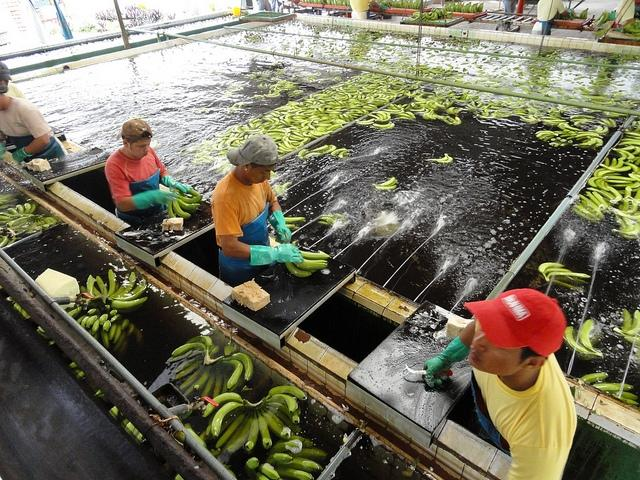banana: (215, 410, 250, 450), (206, 408, 248, 441), (225, 410, 254, 454), (211, 402, 246, 438), (202, 392, 244, 419), (564, 326, 596, 360), (259, 408, 290, 440), (579, 319, 604, 358), (613, 308, 638, 344), (110, 278, 148, 301), (224, 352, 254, 381), (278, 456, 324, 474), (281, 446, 329, 462), (578, 194, 604, 220), (222, 360, 243, 392), (270, 465, 314, 480), (256, 408, 272, 449), (112, 272, 136, 298), (174, 360, 204, 380), (266, 394, 297, 413), (265, 386, 306, 400), (108, 296, 148, 310), (245, 410, 259, 450), (200, 368, 216, 402), (571, 206, 601, 224), (110, 273, 130, 297), (194, 366, 212, 392), (172, 343, 206, 356), (285, 262, 312, 278), (538, 262, 564, 278), (185, 336, 212, 351), (268, 442, 299, 455), (553, 280, 585, 292), (213, 364, 224, 398), (175, 358, 198, 374), (172, 200, 192, 218), (264, 454, 294, 466), (259, 463, 280, 480), (578, 373, 608, 384), (175, 194, 203, 205), (300, 250, 330, 260), (606, 186, 623, 203), (592, 192, 608, 210), (177, 198, 201, 210), (6, 215, 32, 226), (115, 336, 128, 358), (617, 223, 640, 235), (294, 261, 328, 269), (5, 220, 32, 230), (586, 191, 602, 207), (614, 148, 635, 160), (613, 391, 638, 400), (592, 384, 620, 392), (600, 164, 631, 171), (108, 269, 116, 295), (86, 315, 101, 328), (87, 274, 95, 298), (604, 176, 636, 182), (588, 176, 604, 188), (67, 306, 83, 318), (623, 162, 640, 173), (90, 318, 100, 336), (113, 324, 122, 344), (108, 322, 117, 342), (375, 177, 395, 186), (544, 268, 572, 274), (108, 406, 120, 420), (579, 138, 597, 147), (428, 154, 448, 162), (608, 158, 624, 168), (372, 184, 397, 190), (310, 145, 328, 153), (118, 318, 130, 330), (212, 142, 226, 152), (124, 422, 134, 436), (168, 201, 176, 218), (589, 96, 611, 102), (126, 323, 136, 336), (437, 155, 453, 163), (96, 276, 104, 292), (28, 220, 37, 234), (247, 458, 259, 468), (99, 314, 109, 326), (0, 235, 9, 248), (604, 179, 632, 183), (278, 143, 294, 150), (536, 132, 554, 138), (214, 132, 232, 138), (426, 110, 436, 120), (355, 118, 375, 123), (76, 315, 87, 324), (76, 371, 87, 380), (70, 368, 82, 376), (132, 428, 140, 440), (416, 94, 429, 101), (623, 198, 630, 211), (356, 120, 374, 125), (21, 309, 30, 319), (408, 107, 426, 112), (497, 110, 512, 116), (103, 320, 111, 331), (578, 132, 600, 136), (534, 112, 545, 120), (266, 132, 287, 136), (376, 110, 390, 116), (0, 194, 14, 200), (285, 136, 299, 142), (16, 204, 24, 214), (264, 93, 280, 98), (14, 302, 22, 312), (428, 8, 438, 16), (326, 146, 336, 154), (576, 136, 596, 140), (8, 208, 19, 215), (404, 112, 416, 118), (29, 204, 36, 214), (318, 119, 332, 124), (414, 96, 424, 103), (24, 204, 31, 214), (453, 117, 461, 125), (426, 11, 434, 19), (218, 140, 225, 149), (435, 102, 445, 108), (604, 13, 610, 23), (308, 115, 320, 120), (261, 114, 275, 118), (39, 218, 46, 226), (298, 129, 312, 133), (572, 11, 579, 19), (474, 6, 481, 14), (389, 94, 397, 101), (1, 212, 12, 217), (629, 28, 640, 33), (594, 88, 604, 93), (530, 107, 540, 112), (328, 102, 338, 107), (327, 218, 335, 224), (70, 362, 78, 368), (284, 114, 292, 120), (576, 202, 584, 208), (288, 109, 300, 113), (605, 158, 610, 167), (416, 1, 421, 10), (626, 136, 640, 139), (385, 0, 391, 7), (292, 104, 299, 110), (540, 54, 550, 58), (374, 86, 384, 90), (338, 92, 348, 96), (472, 102, 478, 108), (548, 120, 566, 122), (525, 79, 532, 84), (456, 4, 460, 12), (470, 5, 474, 13), (304, 114, 320, 116), (336, 102, 342, 107), (467, 3, 470, 13), (314, 112, 324, 115), (598, 72, 612, 74), (409, 0, 412, 9), (318, 98, 331, 100), (616, 94, 628, 96), (321, 108, 325, 114), (253, 122, 259, 126), (242, 127, 249, 130), (548, 83, 555, 86), (366, 86, 376, 88), (359, 92, 364, 96), (550, 52, 555, 56), (292, 91, 302, 93), (448, 94, 456, 96), (266, 127, 270, 130), (319, 0, 322, 4), (451, 2, 454, 6), (498, 76, 504, 78), (447, 42, 450, 46), (266, 70, 272, 72), (271, 78, 276, 80), (351, 50, 356, 52), (424, 74, 429, 76), (576, 60, 585, 61), (441, 15, 444, 18), (312, 28, 316, 30), (362, 105, 366, 107), (310, 77, 317, 78), (256, 33, 258, 36), (535, 80, 541, 81), (369, 36, 372, 38), (391, 53, 394, 54), (423, 58, 425, 59), (282, 43, 282, 46), (479, 50, 482, 50)
